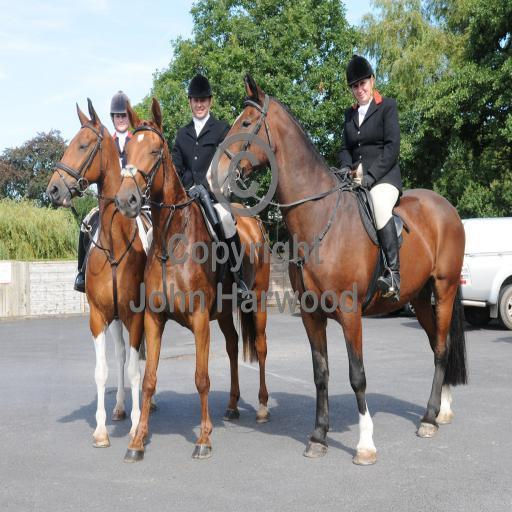horse: (208, 71, 472, 464), (114, 98, 272, 466), (45, 98, 155, 454)
